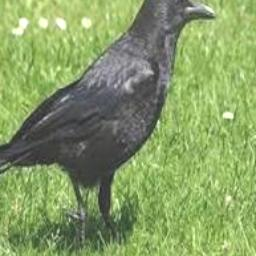Crow: (0, 0, 218, 241)
